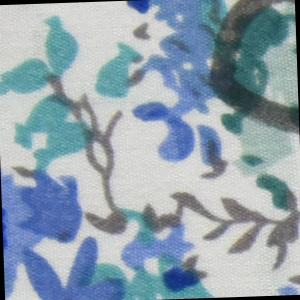Stain: (200, 1, 300, 143)
